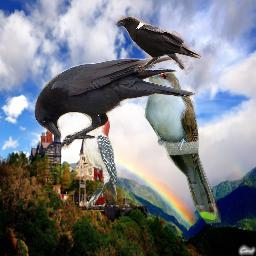Crow: (34, 56, 196, 151), (115, 15, 201, 75)
Cuckoo: (141, 68, 221, 224)
Woodpecker: (76, 107, 117, 210)
